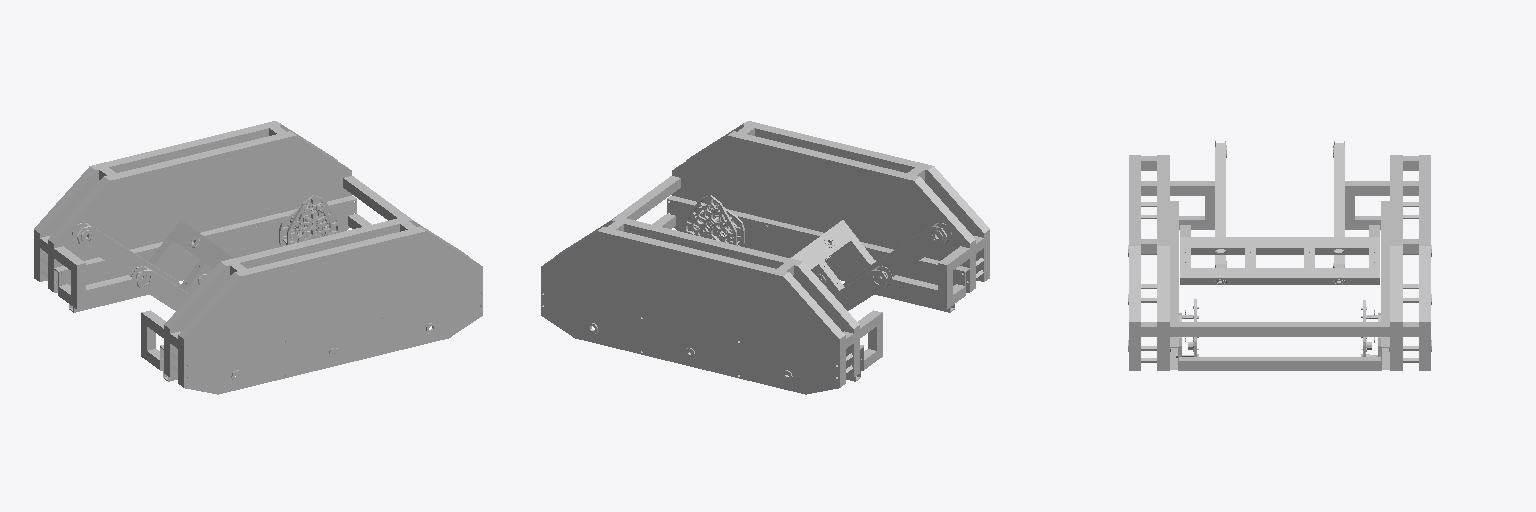
File: robot-frame.obj
3 views of the same model, side by side, from view 1: azimuth 30°, elevation 25°; view 2: azimuth 150°, elevation 25°; view 3: azimuth 270°, elevation 25° (orthographic).
Parts seen in each view (by area): view 1: Robot; view 2: Robot; view 3: Robot.
Part boxes in pixels (left/top/right/bottom): Robot: left=34, top=121, right=482, bottom=394; Robot: left=541, top=121, right=989, bottom=394; Robot: left=1128, top=141, right=1431, bottom=370.
Bounding box in the file's own units: 32.51 × 11.65 × 28.25.